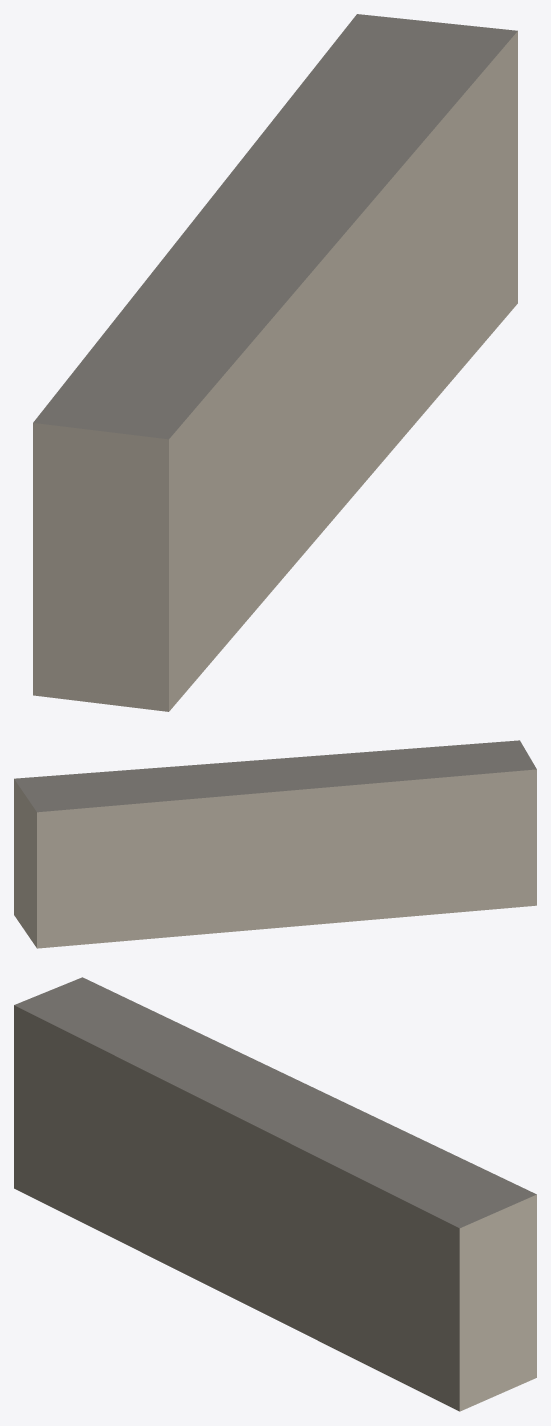
3 views of the same model, one above another, from view 1: azimuth 30°, elevation 25°; view 2: azimuth 150°, elevation 25°; view 3: azimuth 270°, elevation 25° (orthographic). The views are drawn at different scales.
Parts seen in each view (by area): view 1: HP-w729793768; view 2: HP-w729793768; view 3: HP-w729793768.
Part boxes in pixels (<box>): HP-w729793768: <box>33,14,517,711</box>; HP-w729793768: <box>14,740,536,948</box>; HP-w729793768: <box>14,977,536,1411</box>.
Bounding box in the file's own units: 52.9 × 18 × 46.54.
